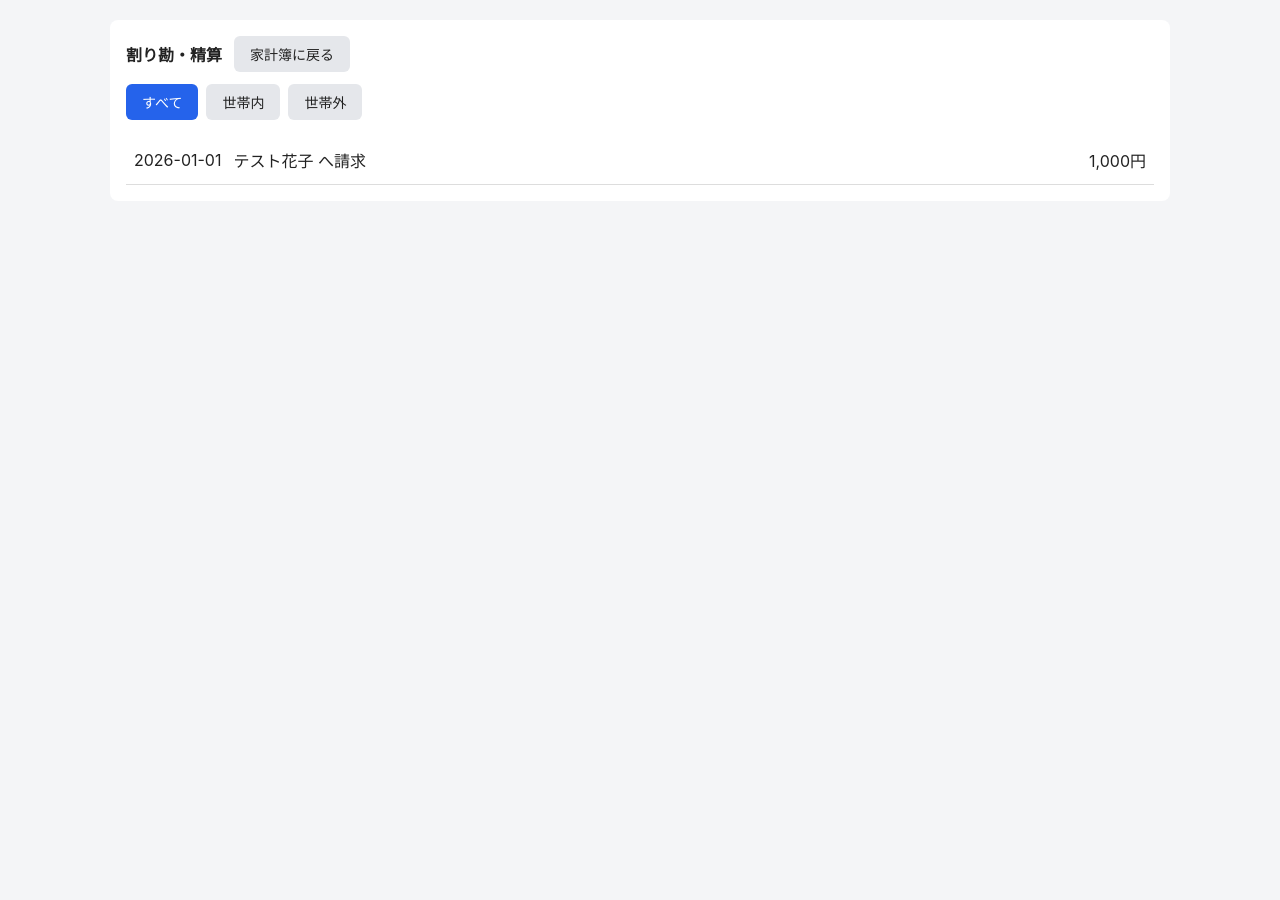
it: WarikanPage コメント › 立替者・負担者どちらの行にもstatusを問わずコメントボタンが出て、件数0のときはバッジが無い
The width and height of the screenshot is (1280, 900).
Click the button with aria-label "共同購入": click(178, 160) [126,136,1154,185]
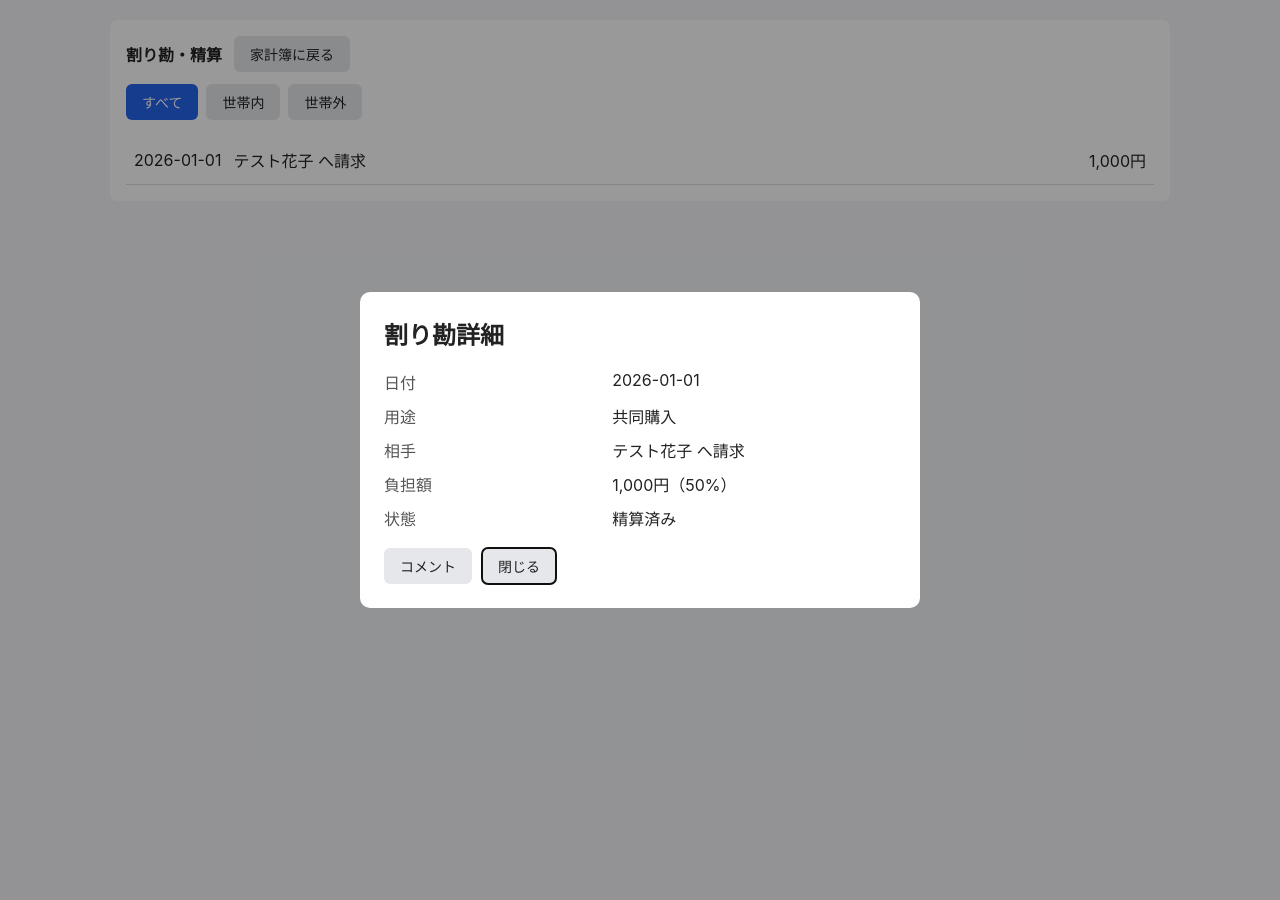
Expected: the button "コメント" is shown, [384,548,472,584]
